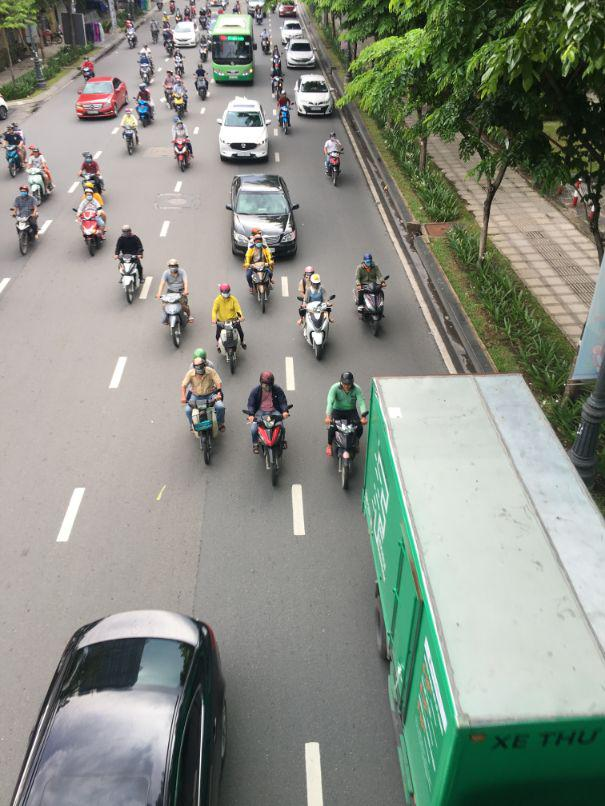bus: (208, 14, 256, 84)
car: (0, 608, 228, 804), (228, 173, 302, 264), (218, 97, 273, 166), (76, 77, 129, 121), (296, 73, 336, 116), (285, 40, 316, 71)
motorbike: (250, 410, 290, 484), (328, 416, 366, 493), (298, 291, 336, 362), (188, 398, 222, 467), (77, 198, 109, 258), (356, 281, 388, 337), (162, 293, 191, 350), (216, 318, 244, 377), (246, 258, 275, 312), (12, 204, 39, 257), (118, 256, 143, 305), (174, 139, 194, 171), (323, 150, 340, 184), (195, 68, 209, 99)
